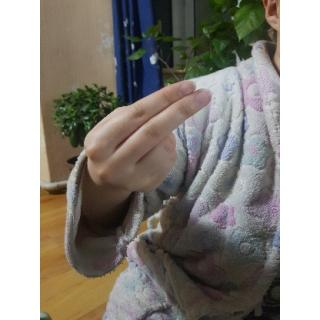AYN: (82, 77, 218, 199)
